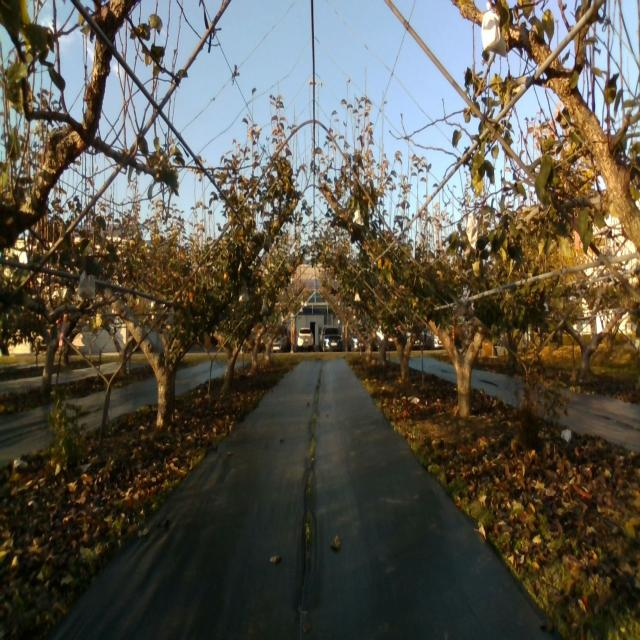pearbags: (481, 0, 508, 58), (78, 270, 96, 300), (467, 212, 479, 252)
